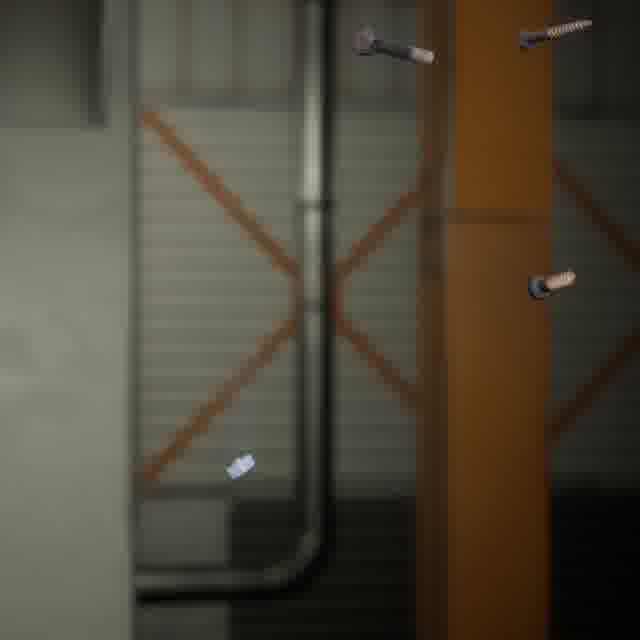bolt: (347, 22, 438, 69), (512, 15, 598, 55), (521, 265, 581, 304)
nut: (221, 448, 260, 483)
